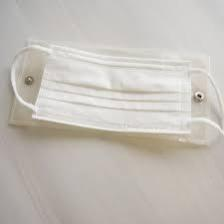mask: (7, 37, 224, 150)
